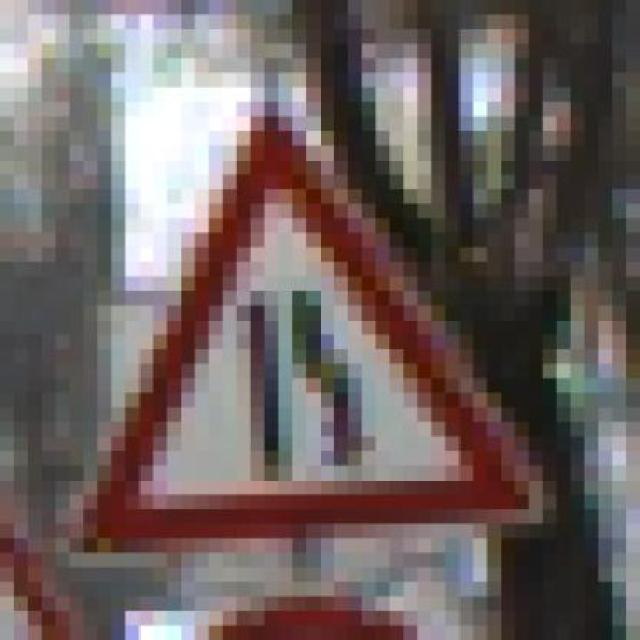-Road narrows on right: (52, 72, 540, 568)
